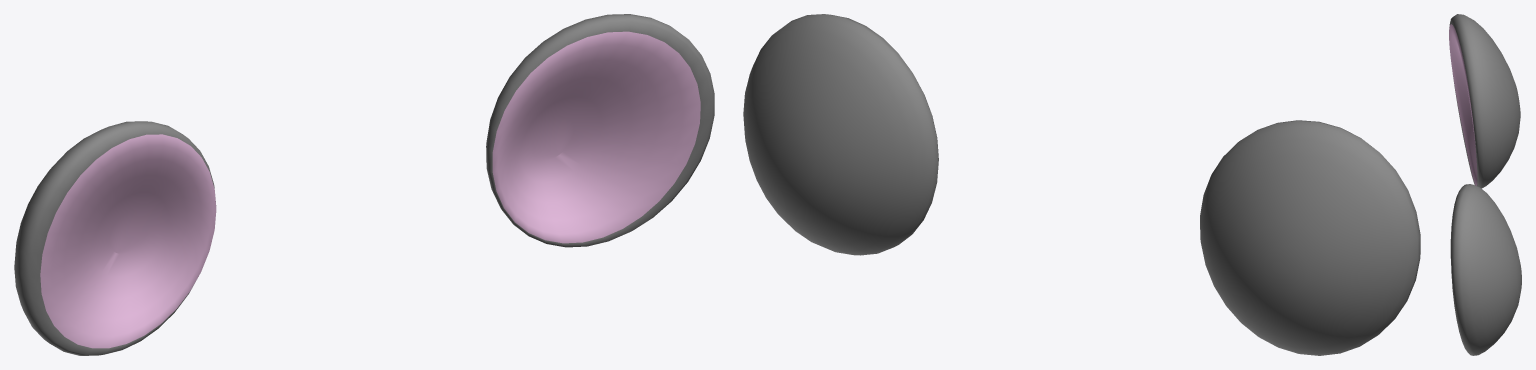
File: mouse-ears.glb
3 views of the same model, side by side, from view 1: azimuth 30°, elevation 25°; view 2: azimuth 150°, elevation 25°; view 3: azimuth 270°, elevation 25° (orthographic). The views are drawn at different scales.
Parts seen in each view (by area): view 1: mouse ear right.001, mouse ear right; view 2: mouse ear right, mouse ear right.001; view 3: mouse ear right.001, mouse ear right.
Part boxes in pixels (x1,y1,x2,y2): mouse ear right.001: [486, 14, 714, 247]; mouse ear right: [14, 121, 216, 355]; mouse ear right: [1200, 120, 1420, 355]; mouse ear right.001: [743, 14, 938, 255]; mouse ear right.001: [1450, 184, 1521, 355]; mouse ear right: [1449, 14, 1520, 188].
Bounding box in the file's own units: 6.36 × 2.14 × 0.8481.
